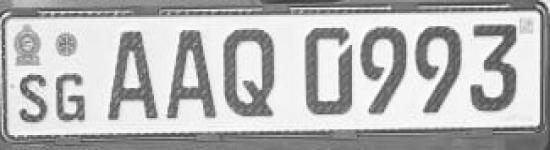0: (299, 21, 358, 124)
3: (466, 22, 525, 121)
9: (412, 21, 465, 123), (358, 22, 407, 123)
A: (159, 24, 219, 125), (104, 26, 160, 125)
G: (54, 70, 93, 126)
Q: (218, 23, 280, 126)
S: (12, 72, 52, 128)
